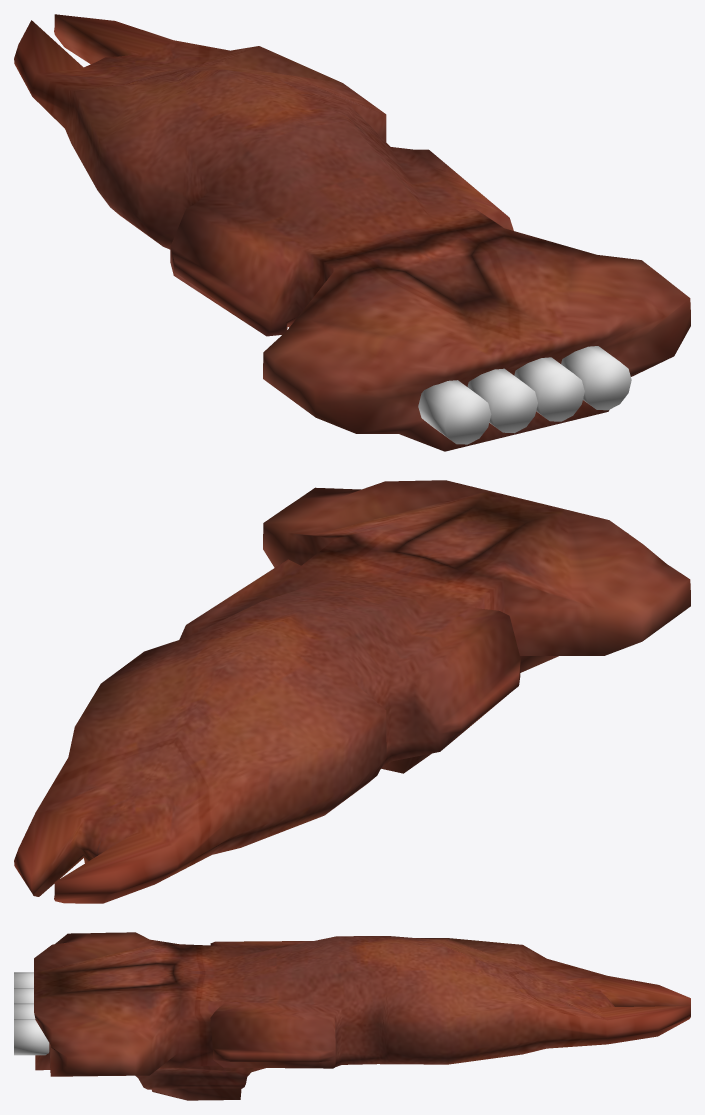
Rendered from ship_battle_cruiser.fbx.
3 renders of one model, top to bottom at view 1: azimuth 30°, elevation 25°; view 2: azimuth 150°, elevation 25°; view 3: azimuth 270°, elevation 25°, orthographic. The views are drawn at different scales.
Parts seen in each view (by area): view 1: Battleship, Battleship_Booster; view 2: Battleship; view 3: Battleship, Battleship_Booster.
Boxes of the visible parts, x1=… form: Battleship: x1=14, y1=14, x2=690, y2=451; Battleship_Booster: x1=418, y1=346, x2=631, y2=444; Battleship: x1=14, y1=480, x2=690, y2=903; Battleship: x1=34, y1=932, x2=690, y2=1100; Battleship_Booster: x1=14, y1=972, x2=49, y2=1055.
Bounding box in the file's own units: 731 × 397 × 1666.
